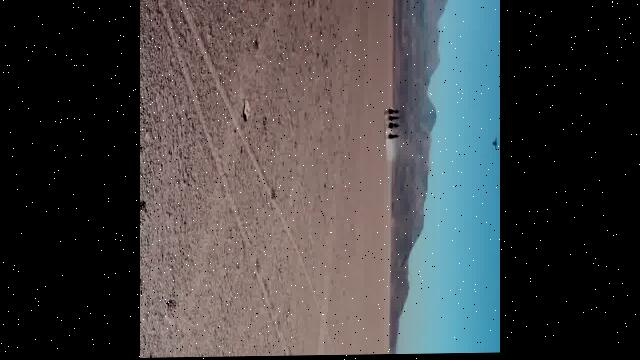drone: (492, 137, 500, 152)
